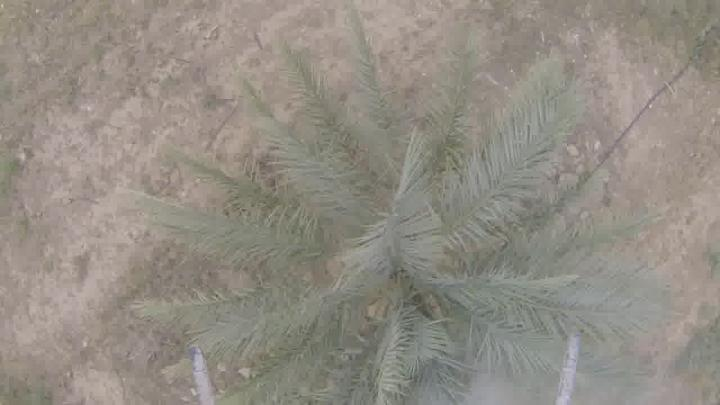Date-Palm-Crown: (282, 124, 552, 390)
